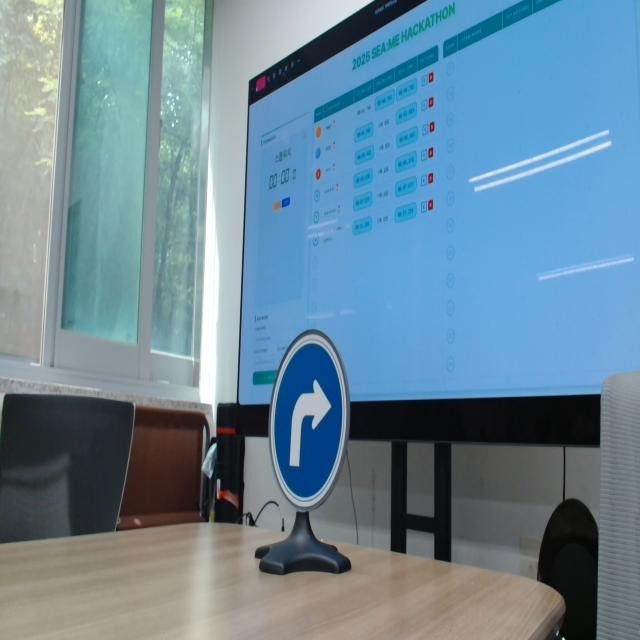right_dierection: (264, 320, 373, 513)
